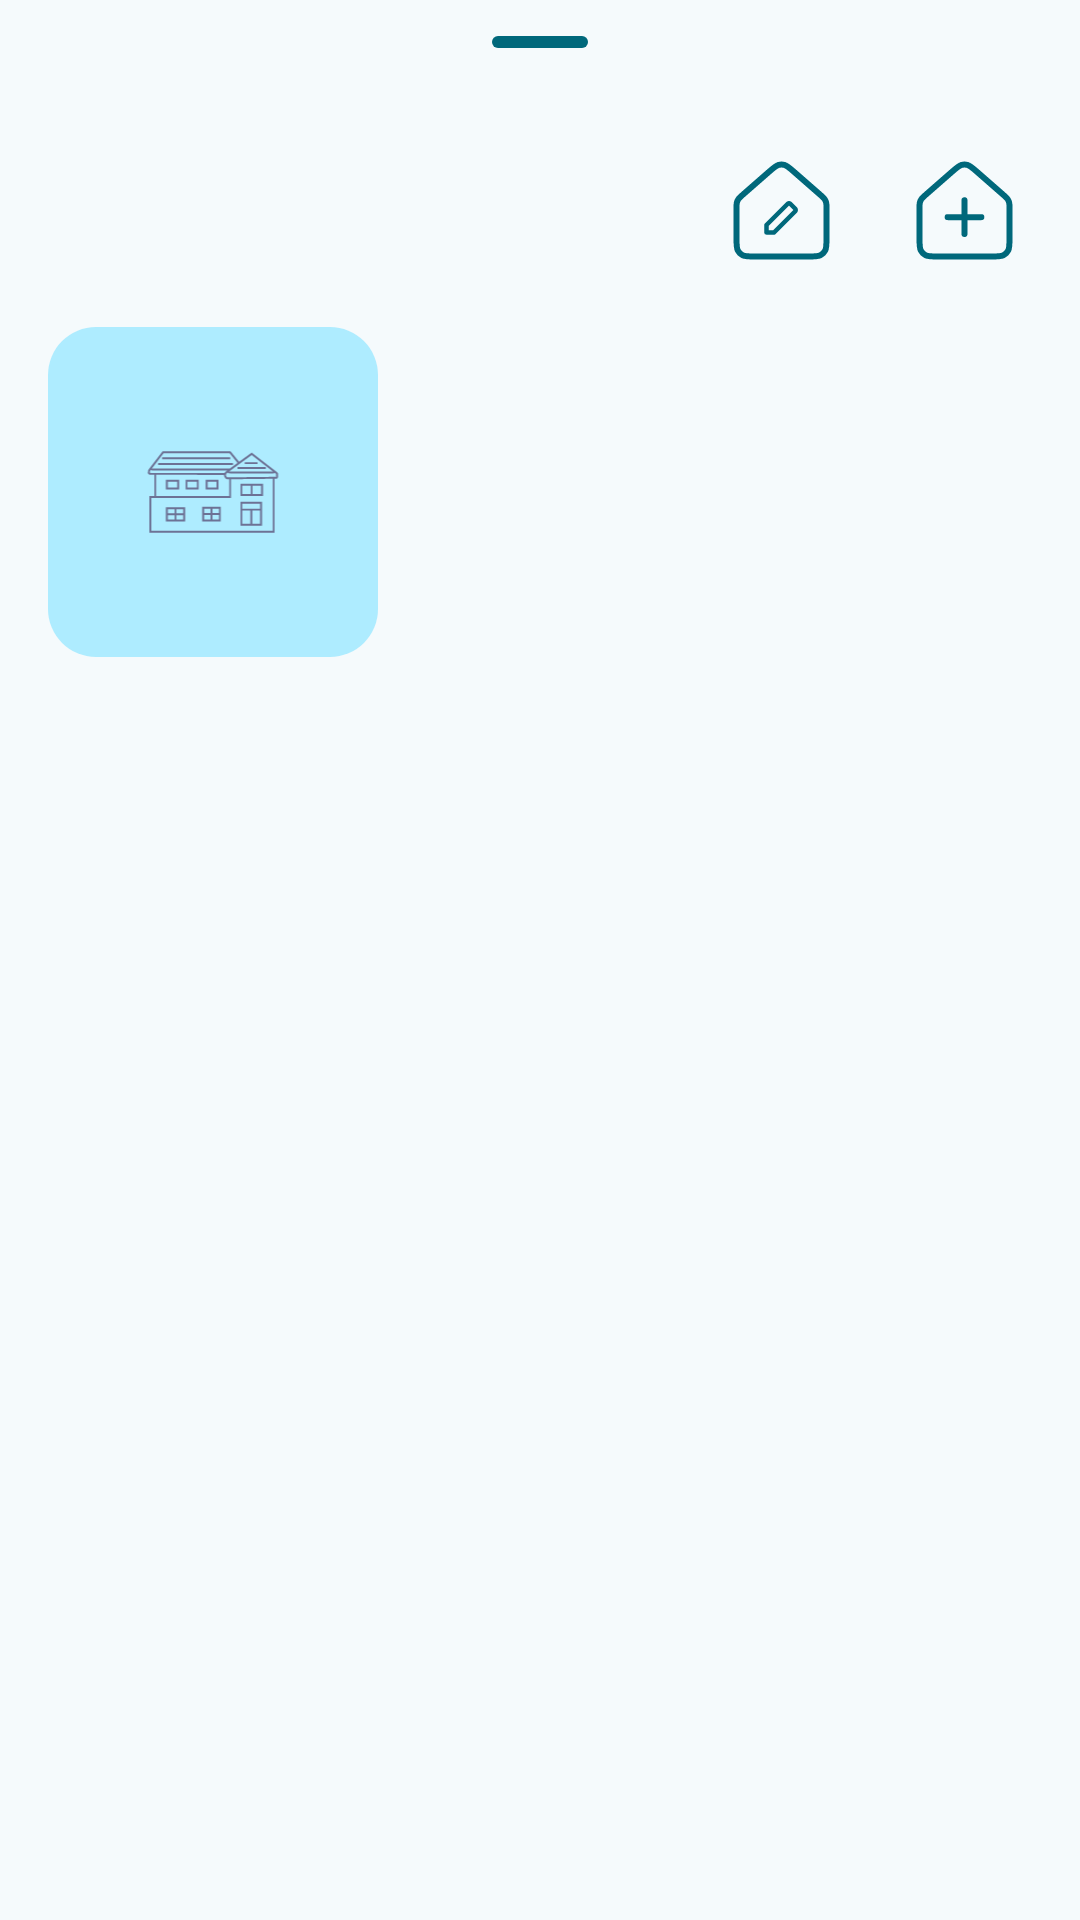

Locate icon controls on the screen. Image size 1080 × 1920, boxes as {"left": x1, "top": y1, "right": x2, "bottom": y2}.
house add: {"left": 916, "top": 161, "right": 1013, "bottom": 260}
house edit: {"left": 733, "top": 161, "right": 830, "bottom": 260}
